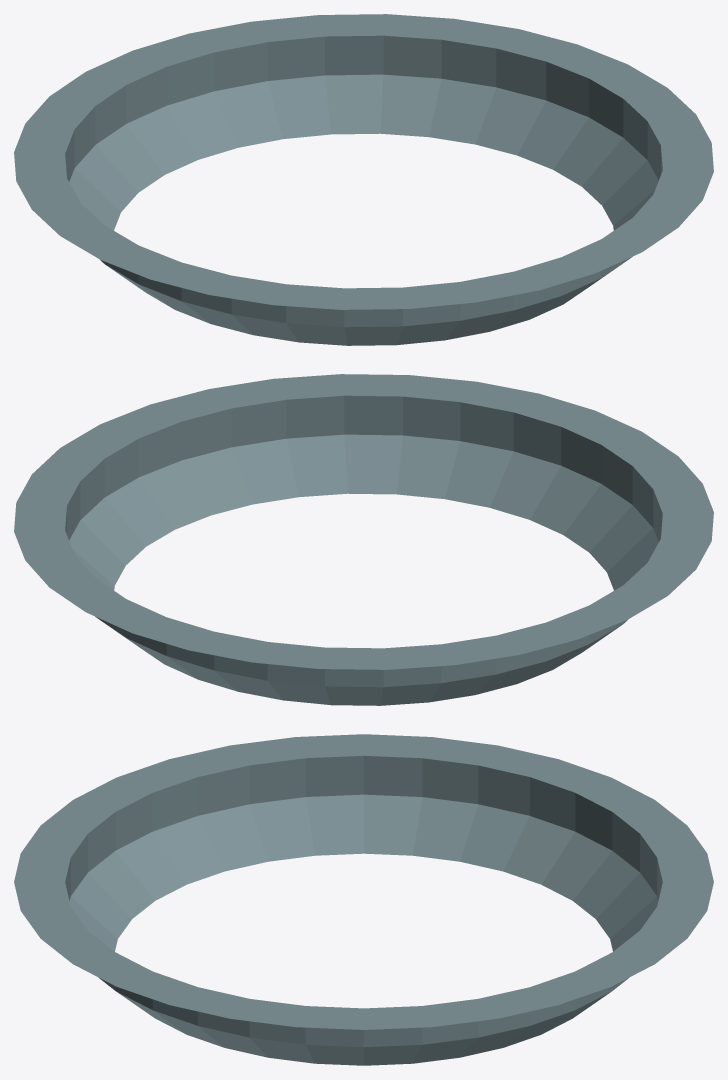
The model's file is CraterBarrier.fbx.
3 renders of one model, top to bottom at view 1: azimuth 30°, elevation 25°; view 2: azimuth 150°, elevation 25°; view 3: azimuth 270°, elevation 25°, orthographic.
Visible parts, largest first — view 1: BarringerCrater; view 2: BarringerCrater; view 3: BarringerCrater.
Part boxes in pixels (<box>): BarringerCrater: <box>14,14,713,345</box>; BarringerCrater: <box>14,374,713,705</box>; BarringerCrater: <box>14,734,713,1065</box>.
Bounding box in the file's own units: 138893 × 17000 × 138893.
